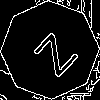Z: (25, 25, 79, 79)
